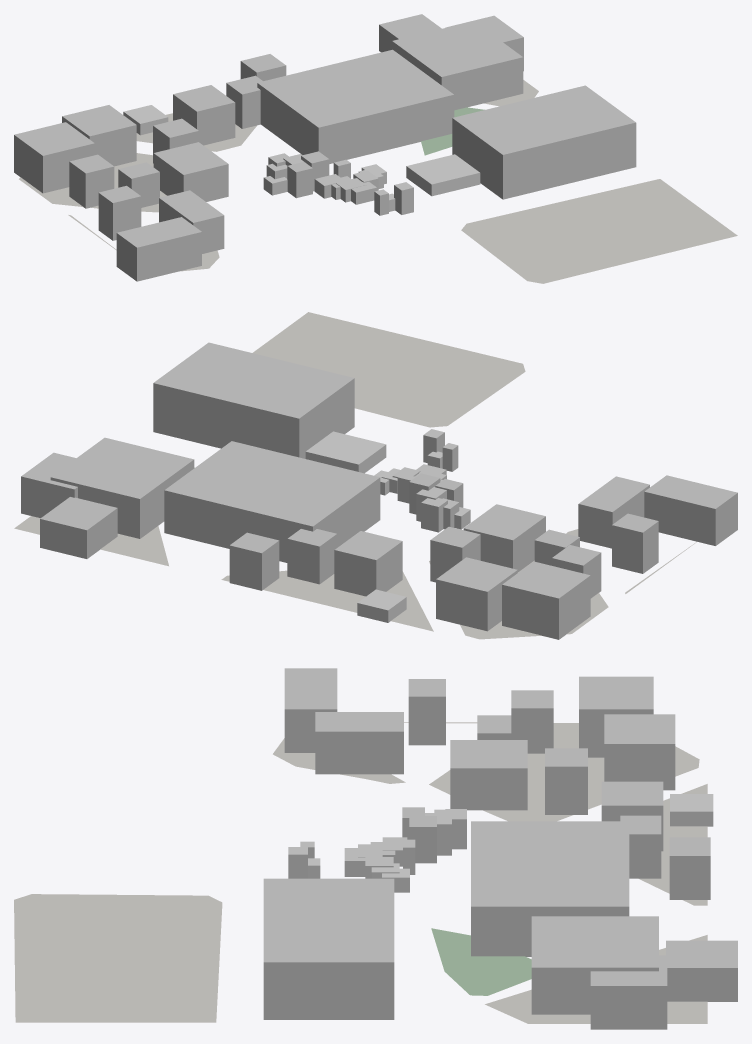
Rendered from 131_108_mid.glb.
The picture shows the model from 3 angles, top to bottom: view 1: azimuth 30°, elevation 25°; view 2: azimuth 150°, elevation 25°; view 3: azimuth 270°, elevation 25°; orthographic projection. The views are drawn at different scales.
Bounding box in the file's own units: 527 × 45.68 × 507.
